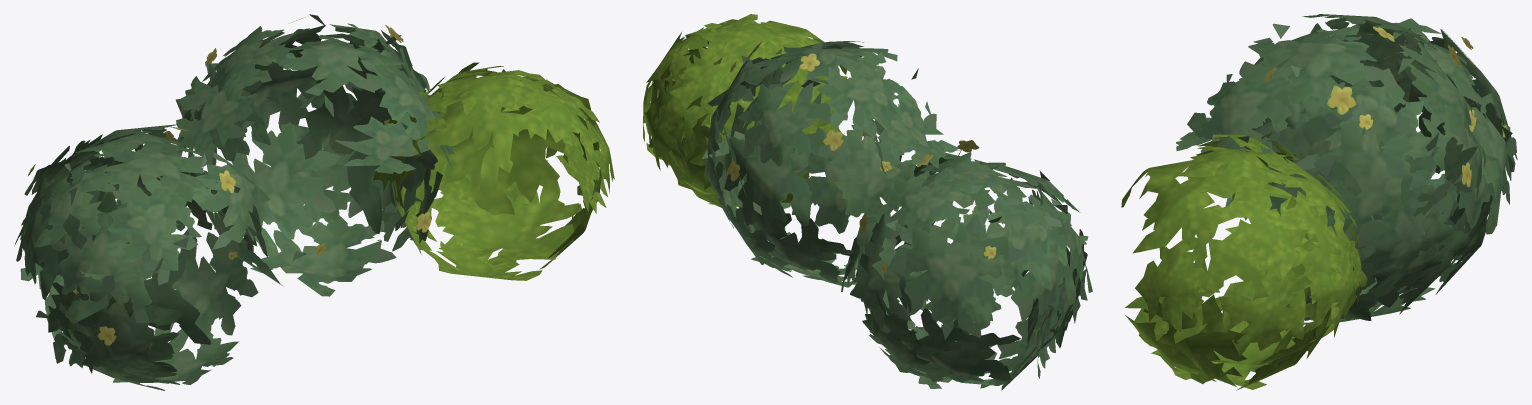
File: pref_sm_beach_bk_pointmol_grassplant01a_lv1.fbx
3 views of the same model, side by side, from view 1: azimuth 30°, elevation 25°; view 2: azimuth 150°, elevation 25°; view 3: azimuth 270°, elevation 25° (orthographic). The views are drawn at different scales.
Parts seen in each view (by area): view 1: pref_sm_beach_bk_pointmol_grassplant01a_lv1; view 2: pref_sm_beach_bk_pointmol_grassplant01a_lv1; view 3: pref_sm_beach_bk_pointmol_grassplant01a_lv1.
Boxes of the visible parts, left/top/right/bottom form: pref_sm_beach_bk_pointmol_grassplant01a_lv1: left=14, top=14, right=614, bottom=390; pref_sm_beach_bk_pointmol_grassplant01a_lv1: left=643, top=14, right=1092, bottom=390; pref_sm_beach_bk_pointmol_grassplant01a_lv1: left=1121, top=14, right=1517, bottom=390.
Size of the model in its own units: 7.85 by 4.7 by 4.65.
